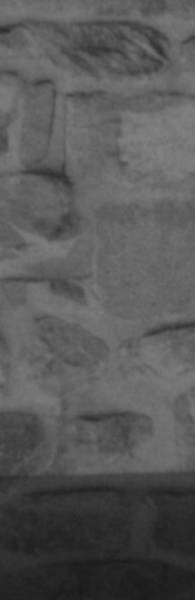water: (0, 474, 195, 600)
